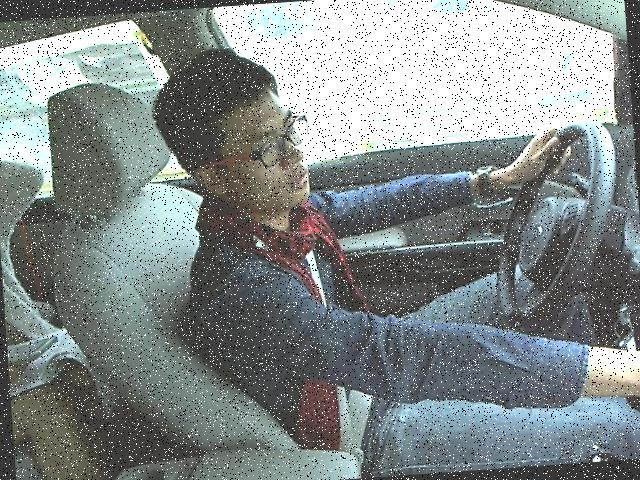c3 - Operating the Radio: (140, 11, 639, 446)
